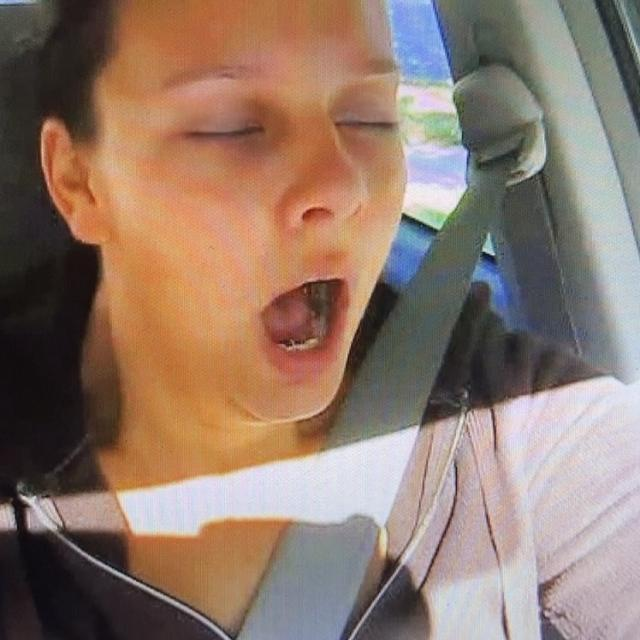open-mouth: (256, 242, 350, 386)
